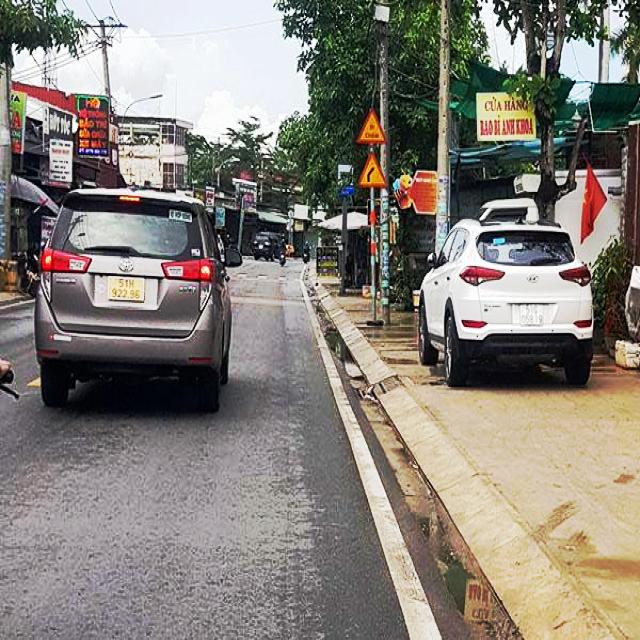license_plate: (107, 274, 147, 307)
